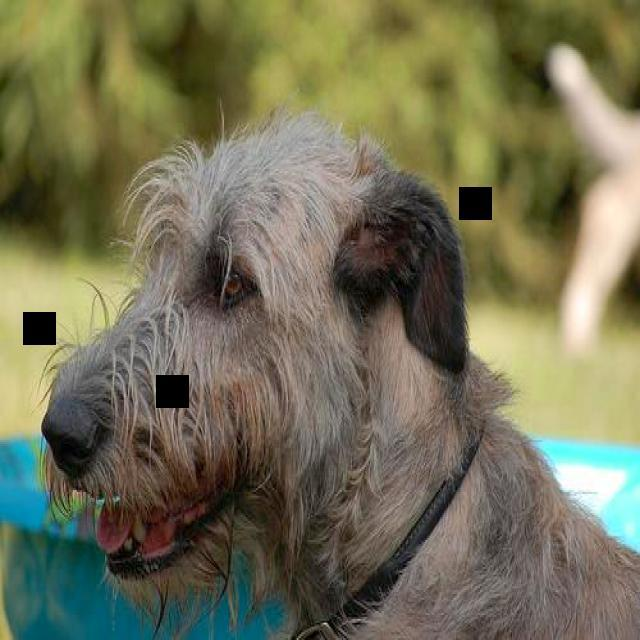adult_dog: (33, 112, 640, 640)
